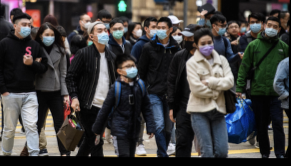with_mask: (93, 26, 109, 45), (120, 62, 137, 78), (197, 38, 213, 55), (15, 21, 31, 37), (155, 24, 169, 40), (265, 21, 278, 38), (41, 31, 55, 46), (181, 36, 195, 51), (248, 18, 261, 33), (214, 22, 227, 36), (111, 24, 123, 39), (171, 31, 182, 43), (148, 23, 157, 37), (100, 18, 111, 29), (81, 18, 91, 29), (132, 25, 142, 36), (239, 24, 246, 34)
without_mask: (227, 24, 239, 34)
